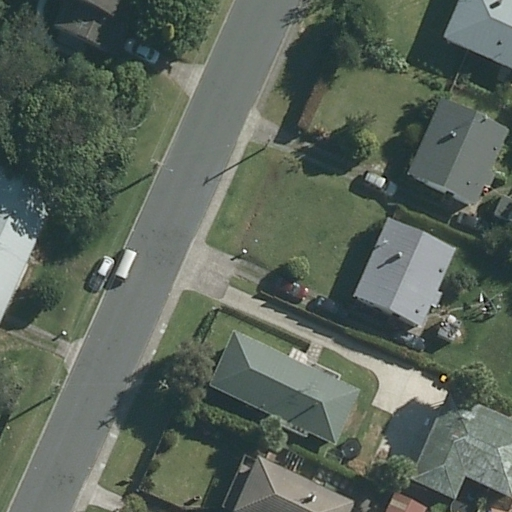DT: (44, 376, 69, 401), (146, 154, 166, 178)
